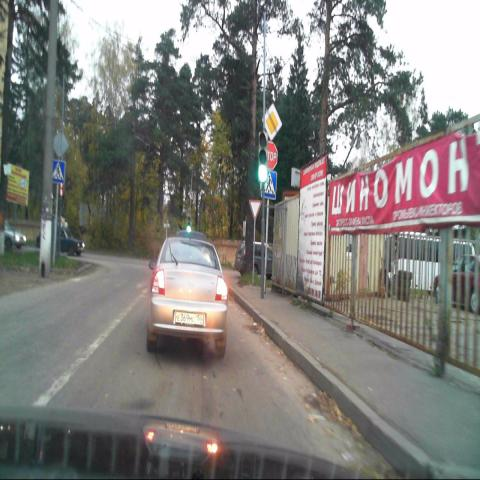2_2: (262, 104, 281, 141)
2_5: (262, 142, 277, 170)
